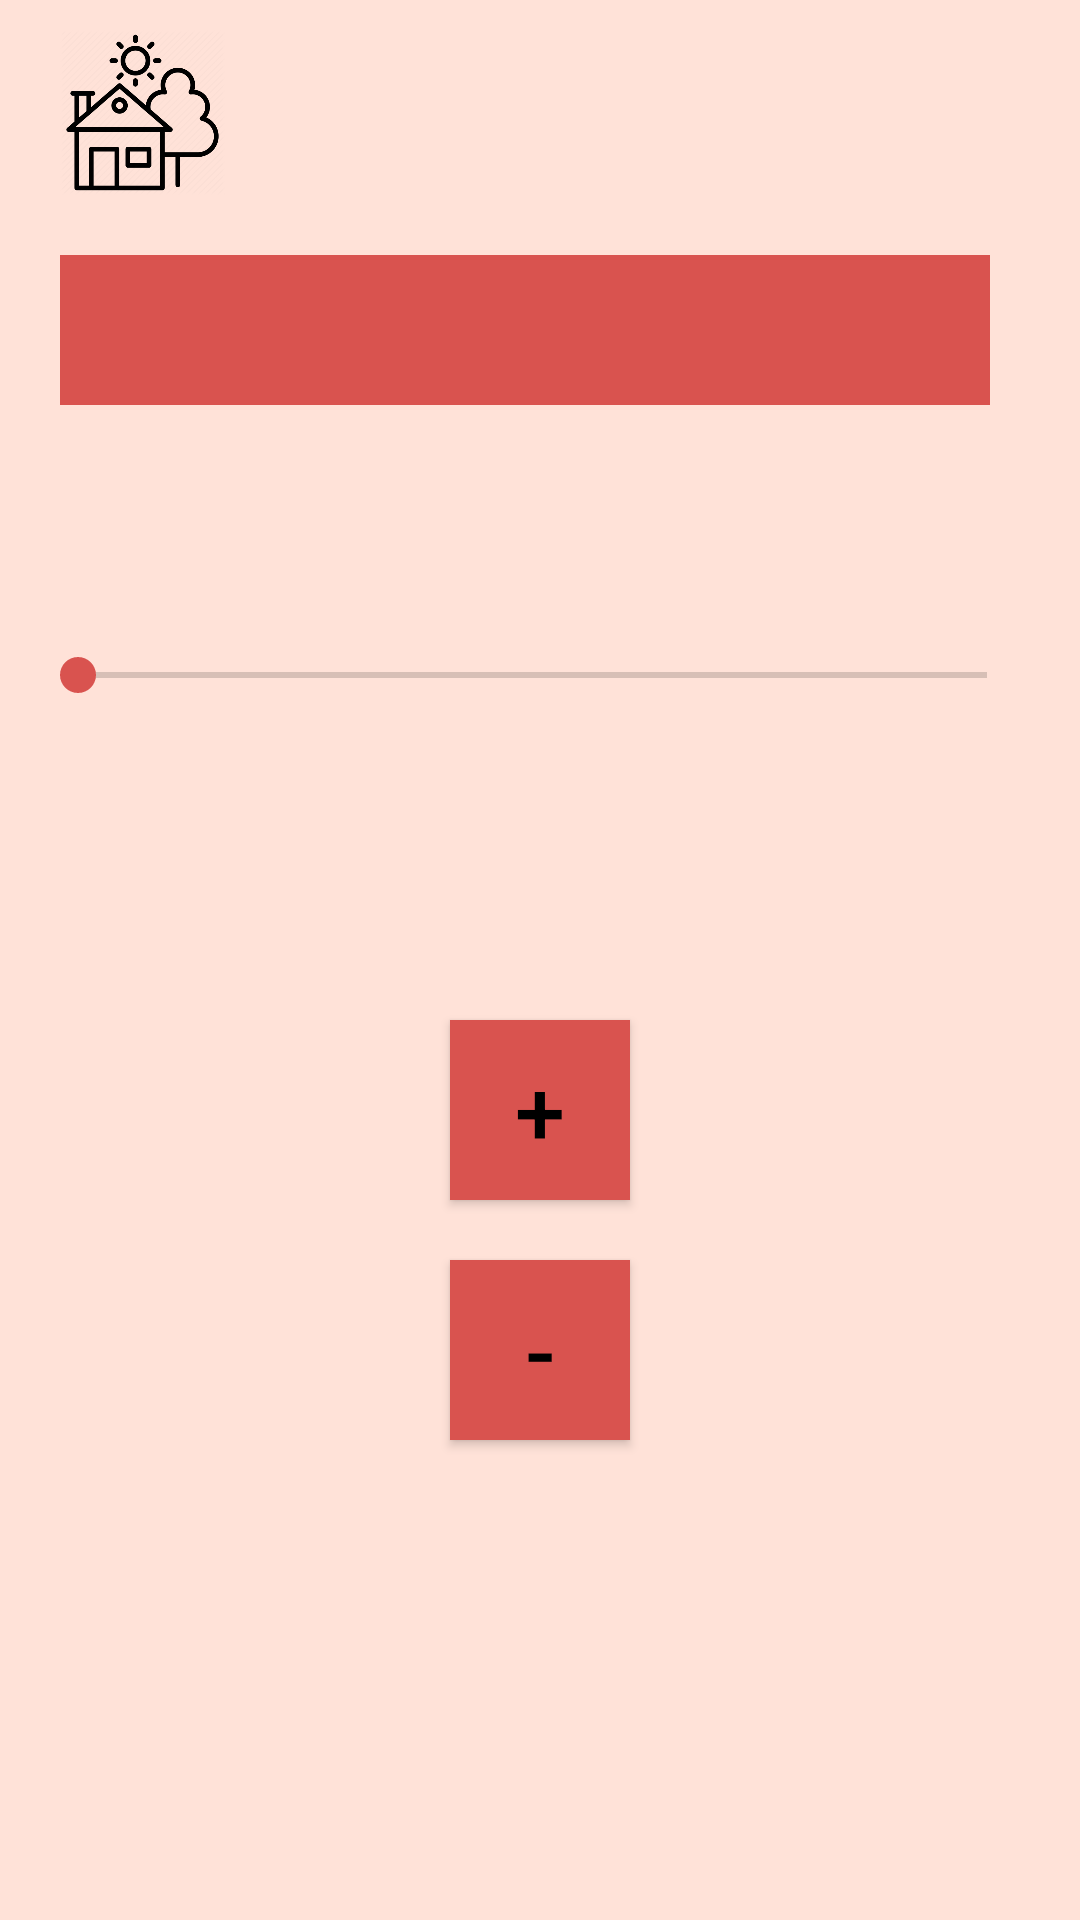

Where to tap for icons on this 1080 × 1920 app screen, as (x=x, y=y):
house: (x=142, y=112)
